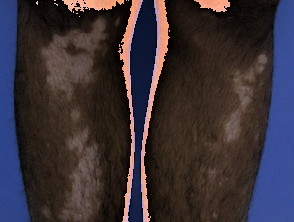vitiligo: (20, 0, 147, 109), (35, 116, 126, 222), (208, 41, 274, 156)
